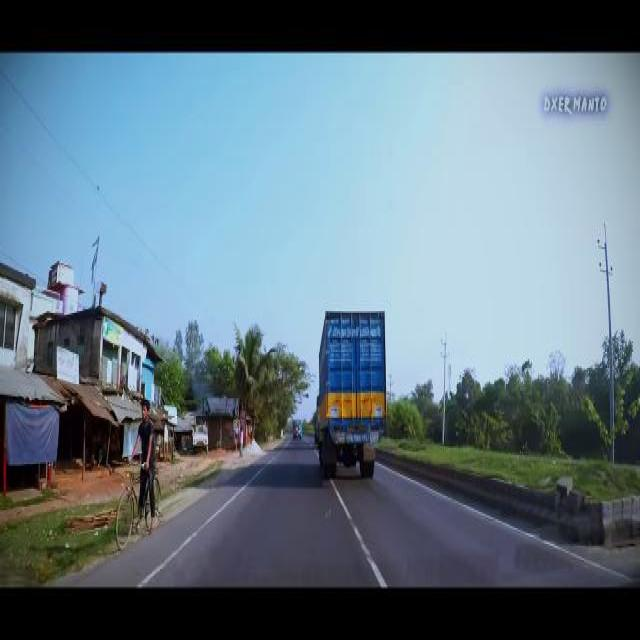18: (314, 306, 388, 480)
Motorcycle: (112, 396, 166, 553)
Truck: (290, 416, 302, 441)
